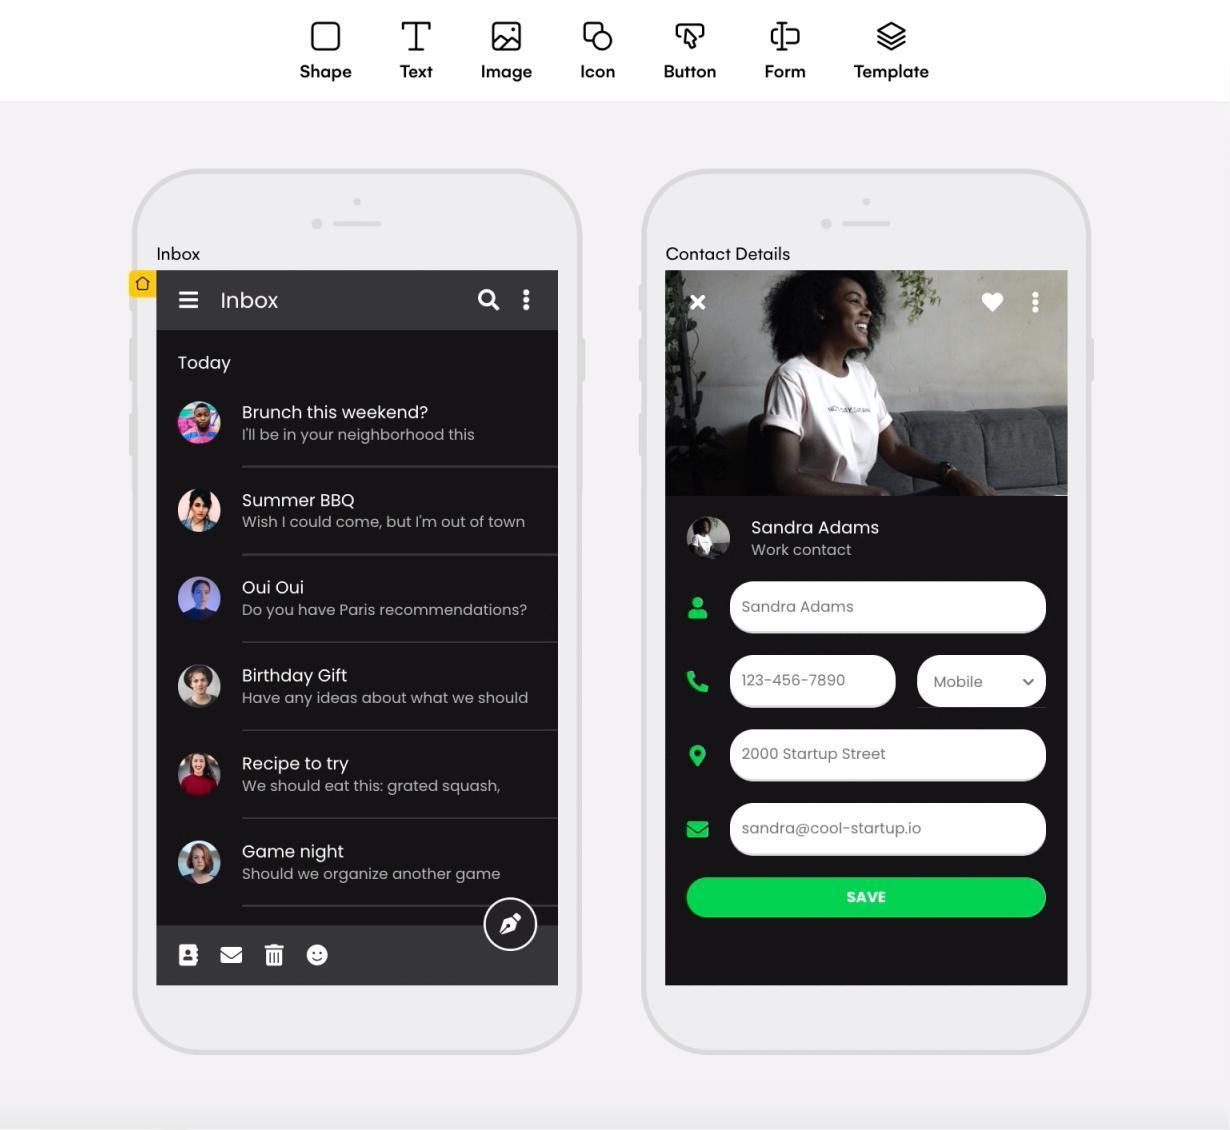button: (688, 878, 1047, 918)
dropdown: (918, 656, 1047, 709)
icon: (468, 281, 507, 318), (767, 17, 804, 55), (172, 281, 210, 316), (400, 18, 436, 54), (671, 22, 712, 52), (489, 19, 523, 54), (873, 22, 907, 57), (309, 20, 344, 54), (581, 20, 616, 54), (514, 283, 543, 318), (264, 941, 287, 971), (686, 671, 712, 696), (686, 818, 712, 843), (179, 943, 202, 970), (687, 291, 712, 316), (307, 944, 331, 969), (688, 743, 709, 771), (219, 946, 244, 968), (982, 291, 1007, 314), (689, 597, 710, 622), (1029, 287, 1044, 321)
input: (731, 583, 1047, 635), (732, 730, 1048, 783), (731, 804, 1048, 856), (731, 657, 897, 710)
label: (217, 285, 288, 319), (847, 62, 937, 86), (291, 60, 358, 90), (474, 61, 538, 82), (659, 62, 716, 86), (764, 58, 808, 85), (571, 61, 618, 82), (397, 58, 435, 85)
